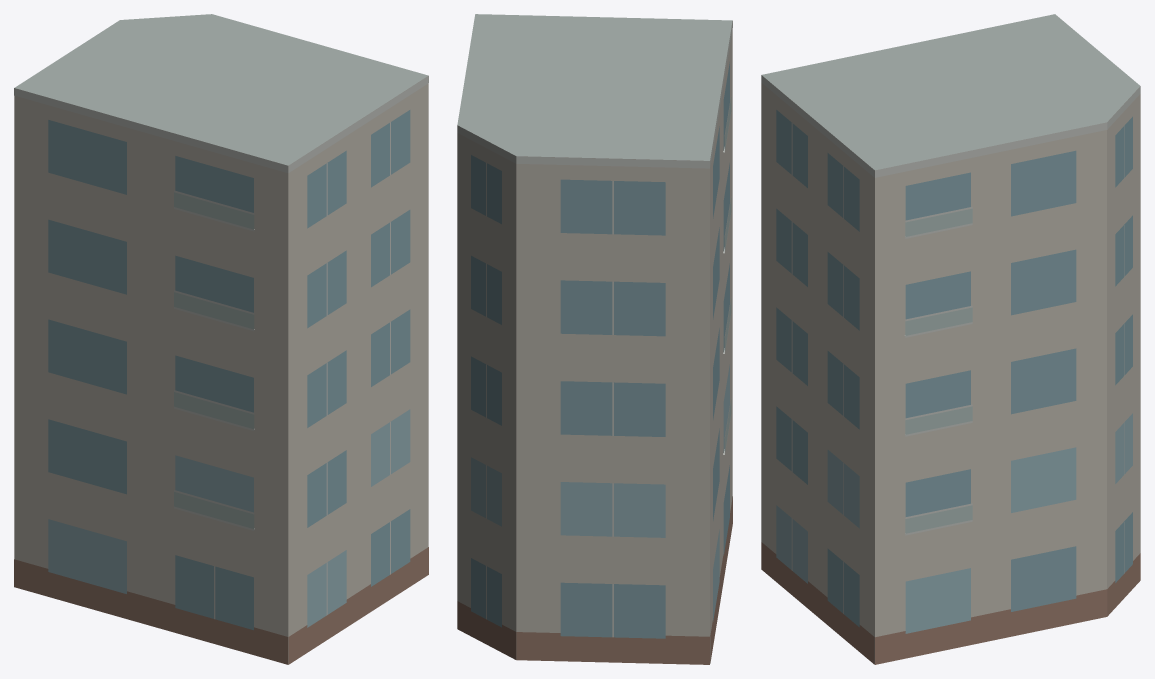
Rendered from survey-upis-32971602.glb.
3 renders of one model, left to right at view 1: azimuth 30°, elevation 25°; view 2: azimuth 150°, elevation 25°; view 3: azimuth 270°, elevation 25°, orthographic.
Parts seen in each view (by area): view 1: survey-upis-32971602.tmp; view 2: survey-upis-32971602.tmp; view 3: survey-upis-32971602.tmp.
Part boxes in pixels (left/top/right/bottom): survey-upis-32971602.tmp: left=14, top=14, right=428, bottom=664; survey-upis-32971602.tmp: left=457, top=14, right=732, bottom=664; survey-upis-32971602.tmp: left=761, top=14, right=1140, bottom=664.
Bounding box in the file's own units: 10.9 × 16.05 × 11.17.
